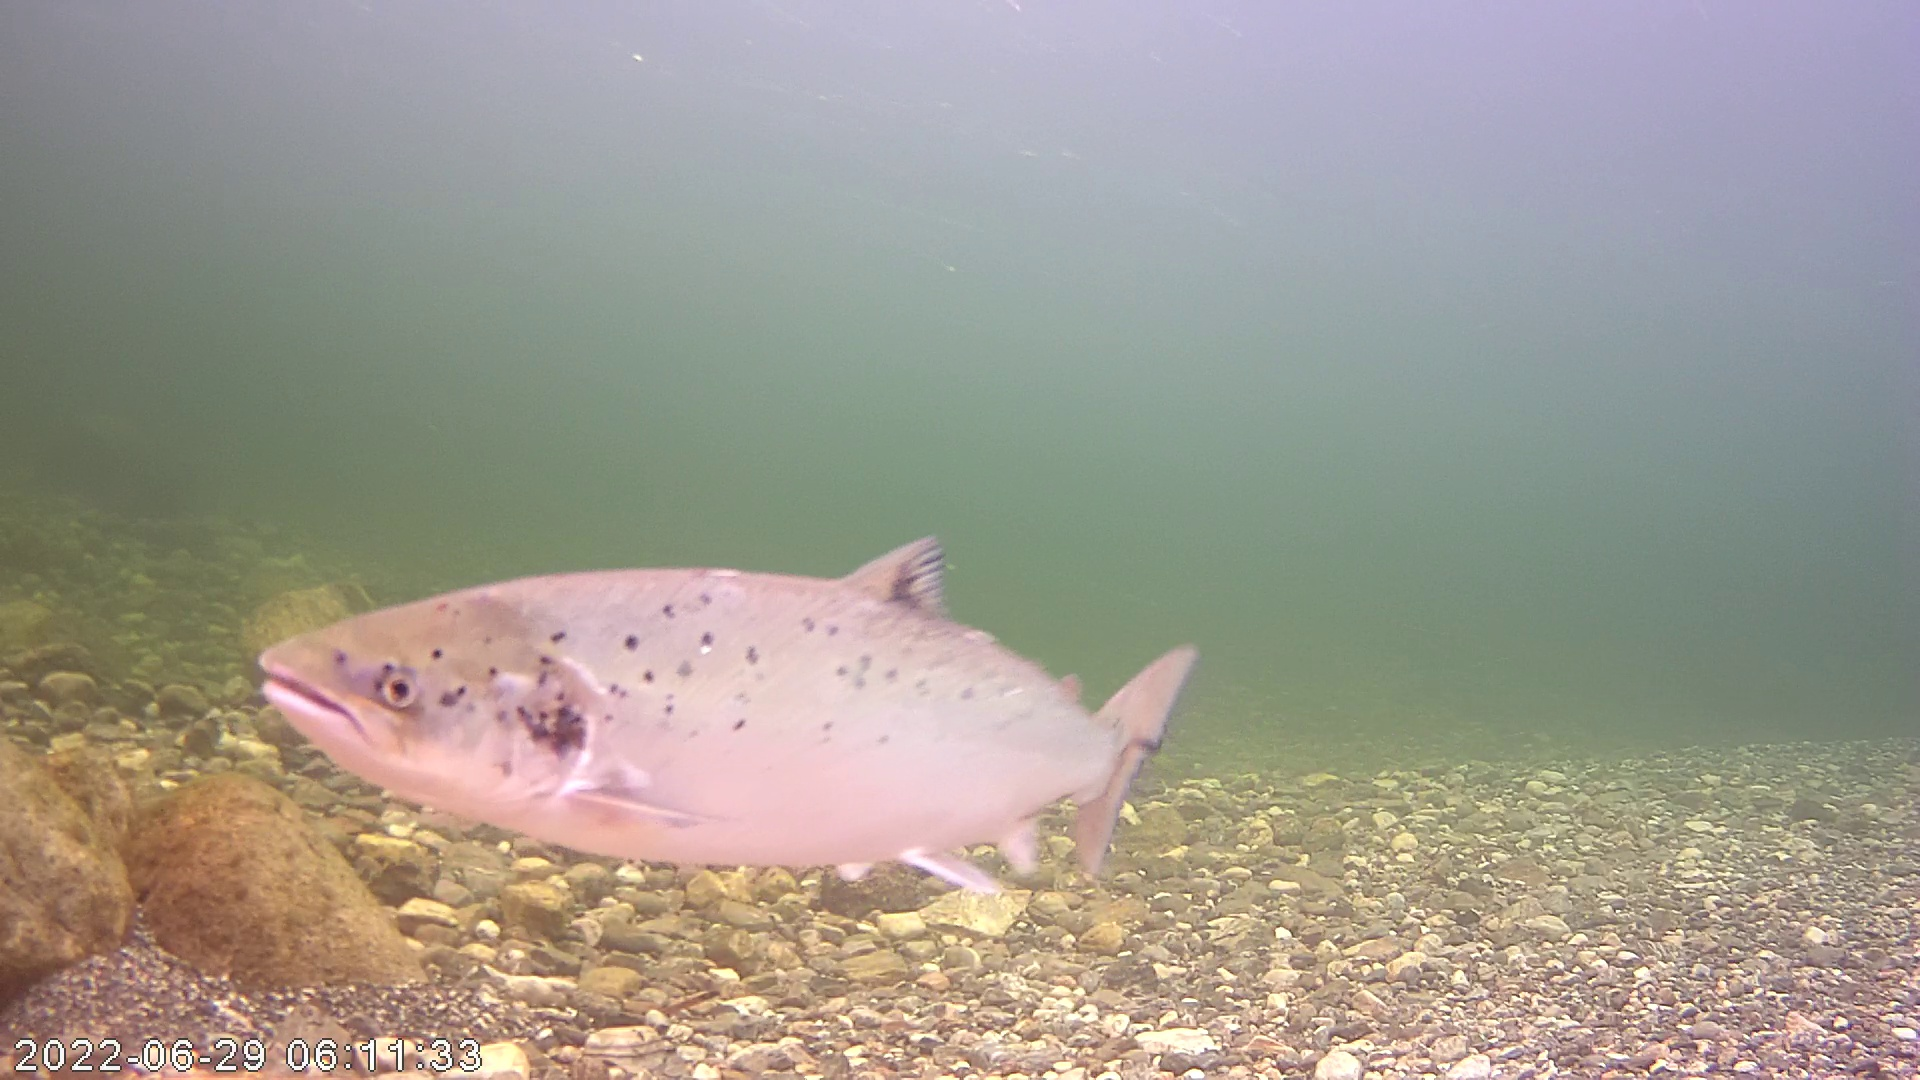salmon: (249, 421, 1195, 907)
